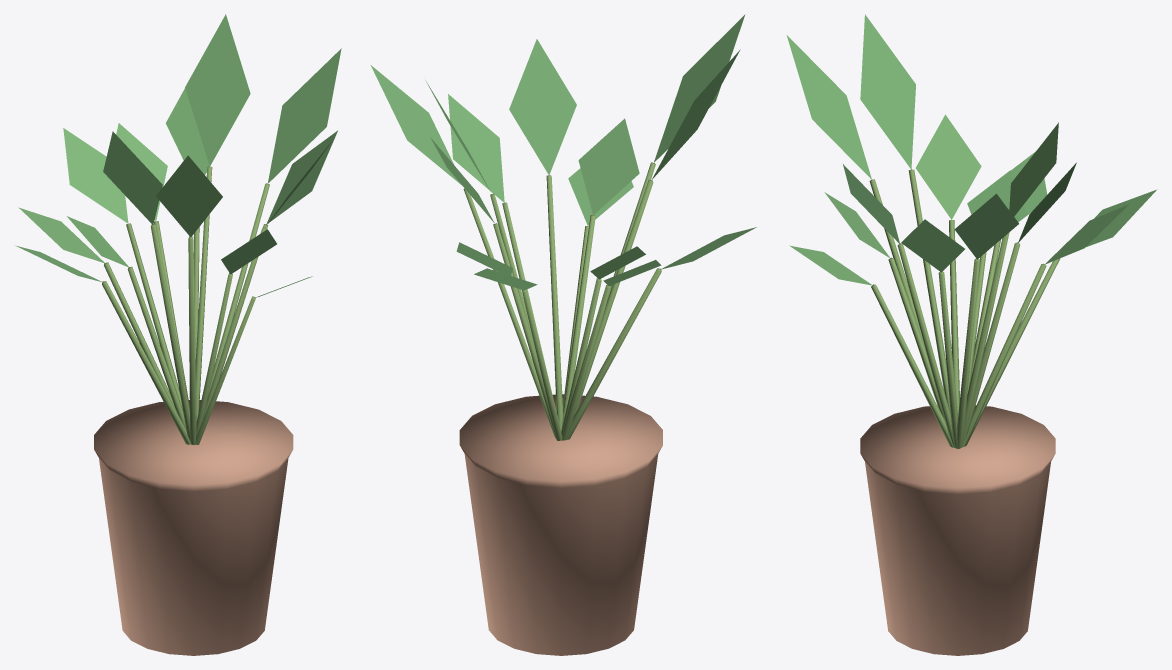
File: potted_plant.glb
3 renders of one model, left to right at view 1: azimuth 30°, elevation 25°; view 2: azimuth 150°, elevation 25°; view 3: azimuth 270°, elevation 25°, orthographic. The views are drawn at different scales.
Visible parts, largest first — view 1: PottedPlant; view 2: PottedPlant; view 3: PottedPlant.
Part boxes in pixels (left/top/right/bottom): PottedPlant: left=15, top=14, right=341, bottom=655; PottedPlant: left=370, top=14, right=756, bottom=655; PottedPlant: left=786, top=14, right=1156, bottom=655.
Bounding box in the file's own units: 0.8475 × 1.28 × 0.7849.
